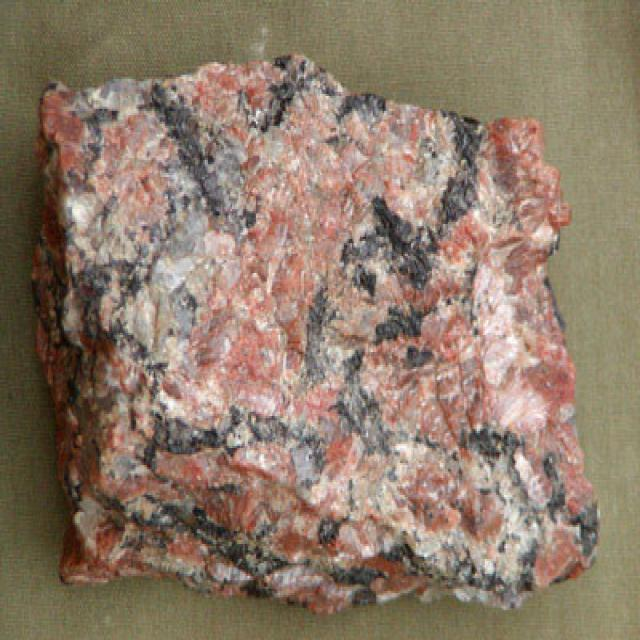Igneous: (27, 58, 610, 616)
